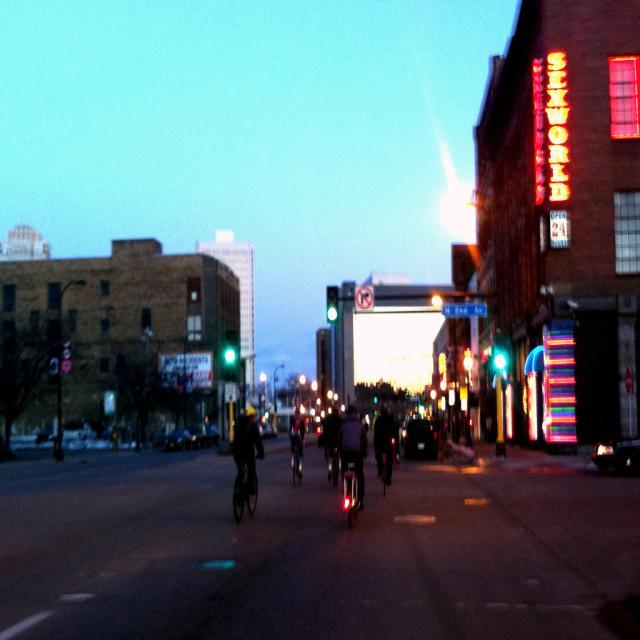road_sign: (355, 286, 374, 310)
traffic light: (225, 332, 238, 379), (326, 285, 338, 321)
